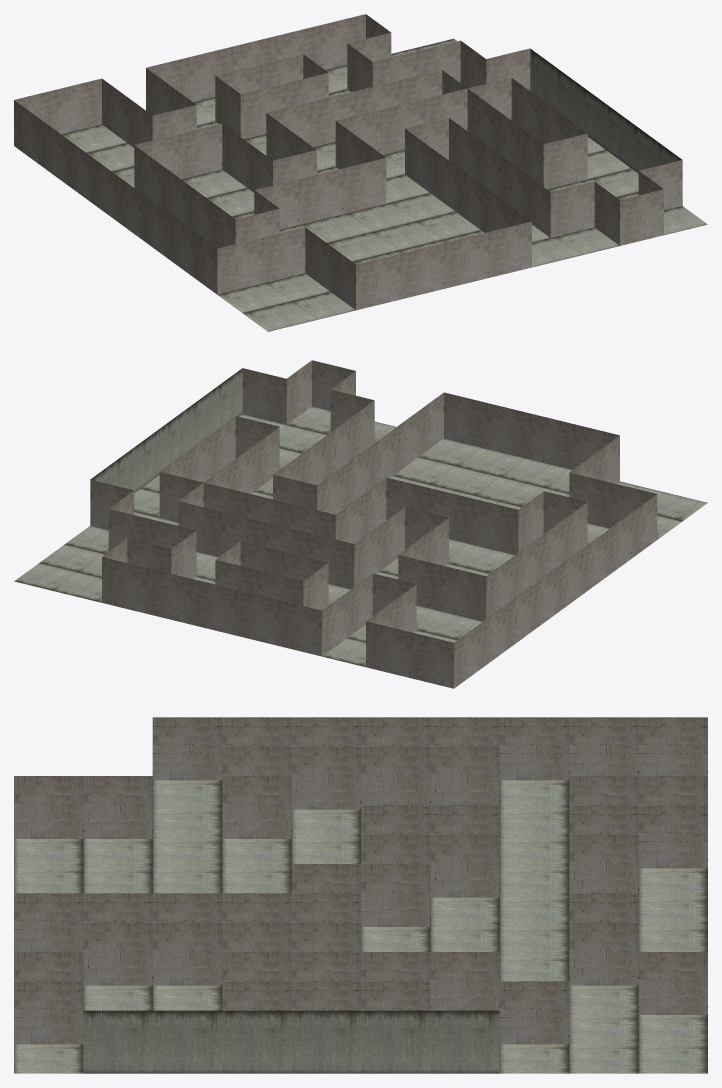
The model's file is level.gltf.
3 views of the same model, one above another, from view 1: azimuth 30°, elevation 25°; view 2: azimuth 150°, elevation 25°; view 3: azimuth 270°, elevation 25° (orthographic). The views are drawn at different scales.
Visible parts, largest first — view 1: Grid; view 2: Grid; view 3: Grid.
Part boxes in pixels (x1=…): Grid: x1=14, y1=14, x2=707, y2=331; Grid: x1=14, y1=360, x2=707, y2=688; Grid: x1=14, y1=717, x2=707, y2=1073.
Bounding box in the file's own units: 10 × 1 × 10.
2 materials, 2 textured.
